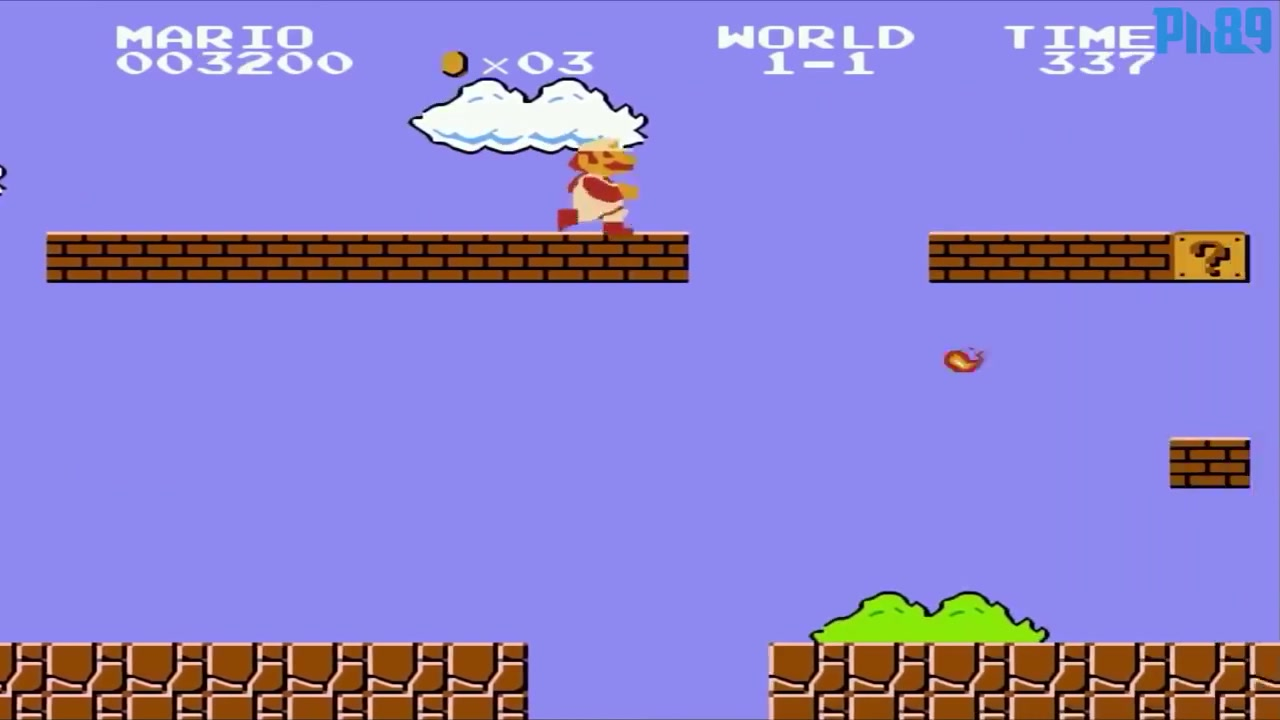mario: (557, 132, 645, 234)
